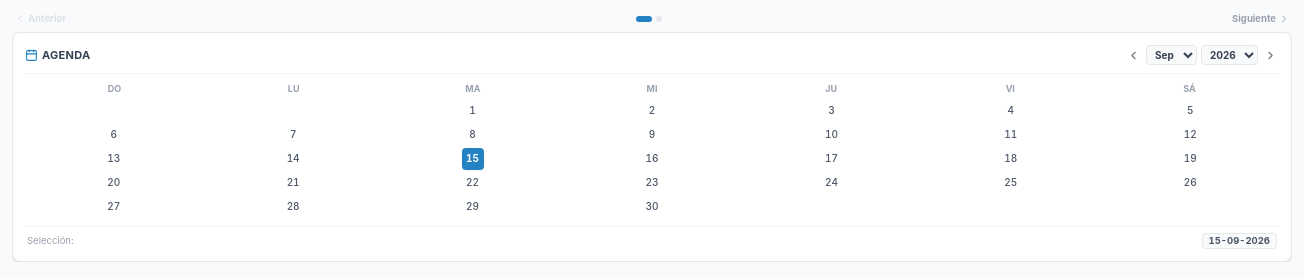
Test: AgendaCarrusel › "Anterior" desde la Hoja 2 vuelve a mostrar el calendario
The image size is (1304, 279).
Click the button "Siguiente": point(1261, 19) x1=1232 y1=12 x2=1290 y2=26
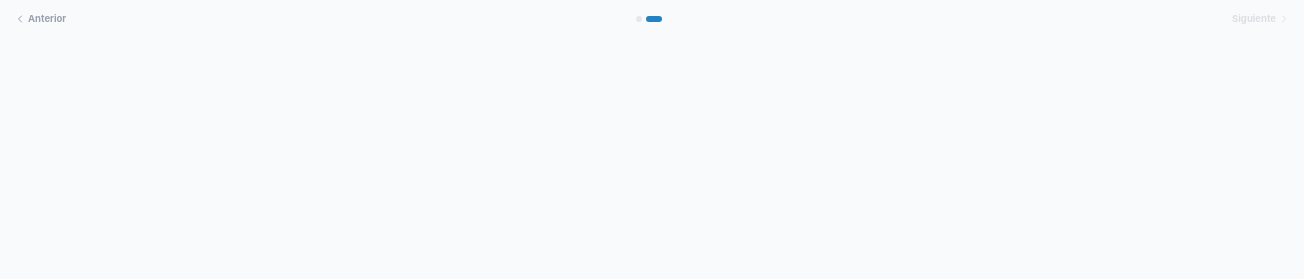
Click the button "Anterior": point(40, 19) x1=14 y1=12 x2=66 y2=26
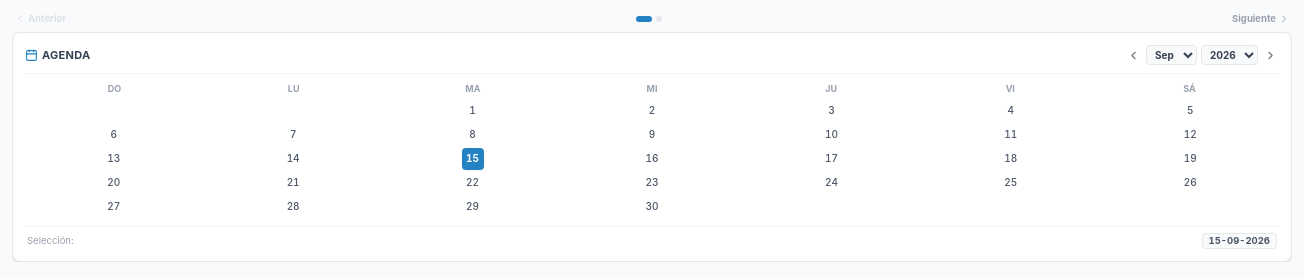
Check: the text "Agenda" is shown, box x1=25 y1=47 x2=90 y2=64
